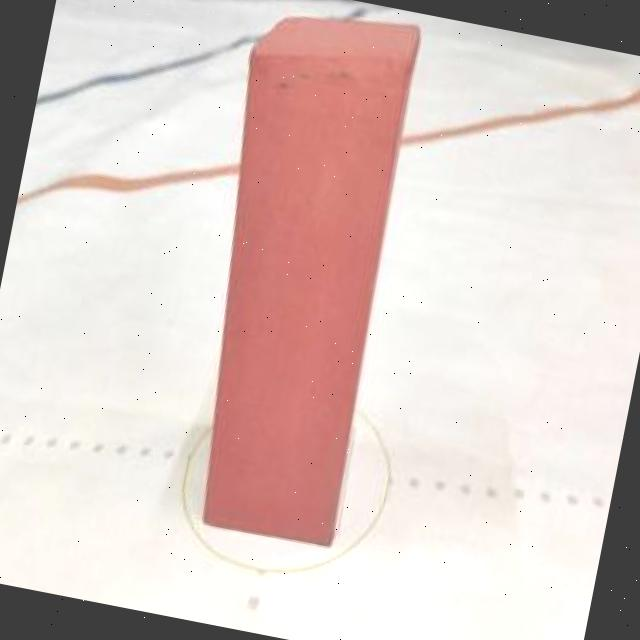redbox: (160, 0, 431, 546)
